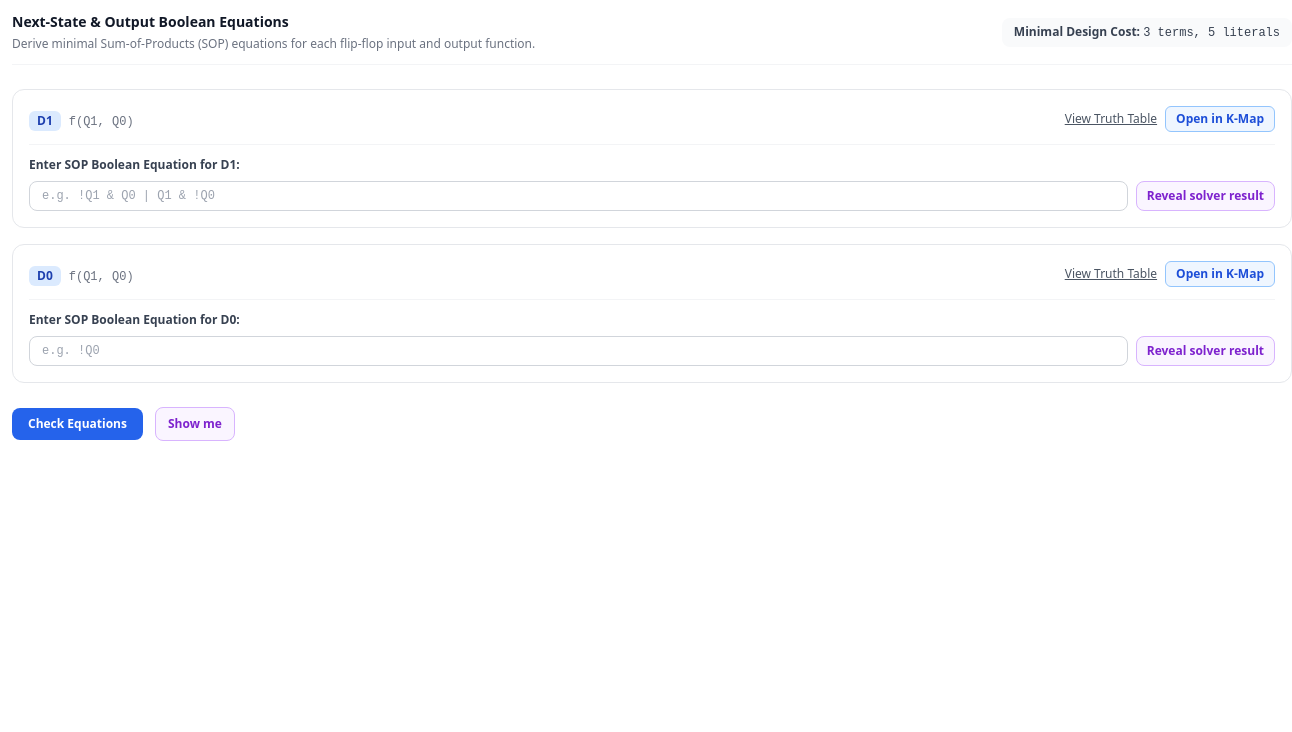
Test: InputEquations component › marks assisted and displays solver equation, cost, minimal covers, and used dont-cares on Reveal
The image size is (1292, 732).
Click the 1st button "Reveal solver result" at (1205, 196), box [1136, 181, 1275, 211]
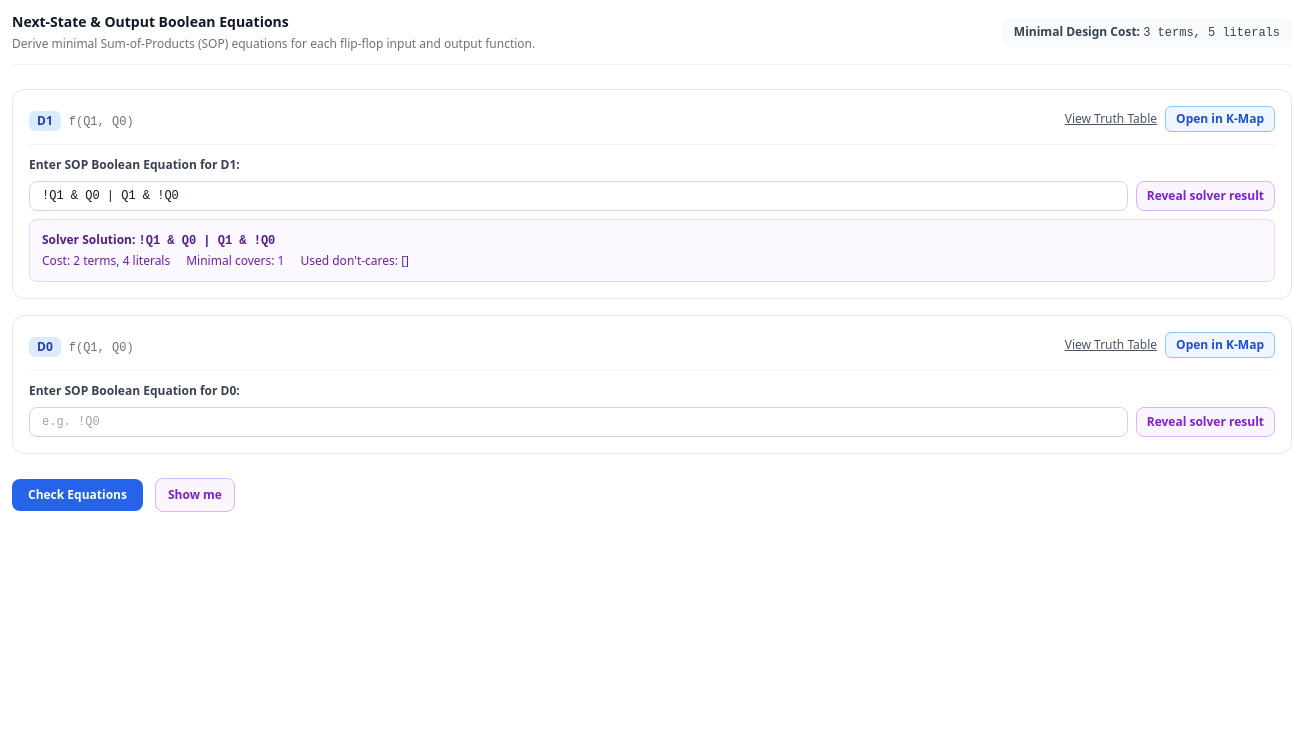
Now the text "Solver Solution: !Q1 & Q0 | Q1 & !Q0" is shown, box [42, 231, 275, 248]
Now the text "Minimal covers: 1" is shown, box [186, 253, 284, 269]
Now the text "Used don't-cares: []" is shown, box [300, 253, 409, 269]
